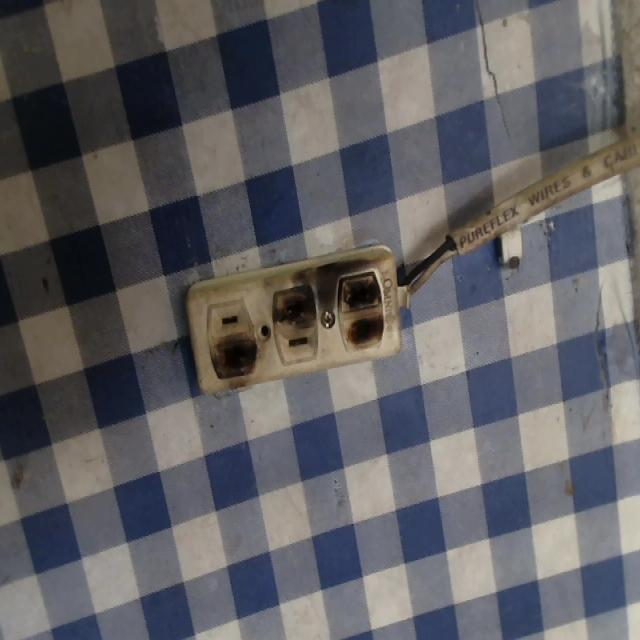-: (327, 259, 395, 360), (204, 335, 263, 388), (268, 278, 317, 330)
